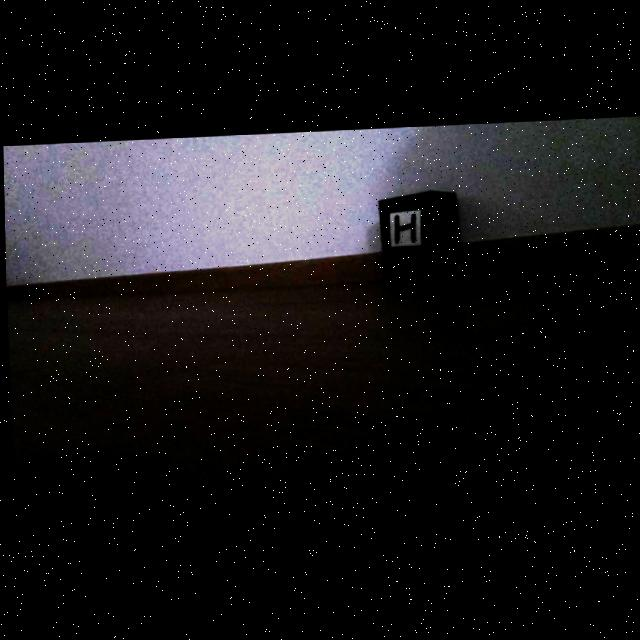H: (394, 216, 415, 245)
